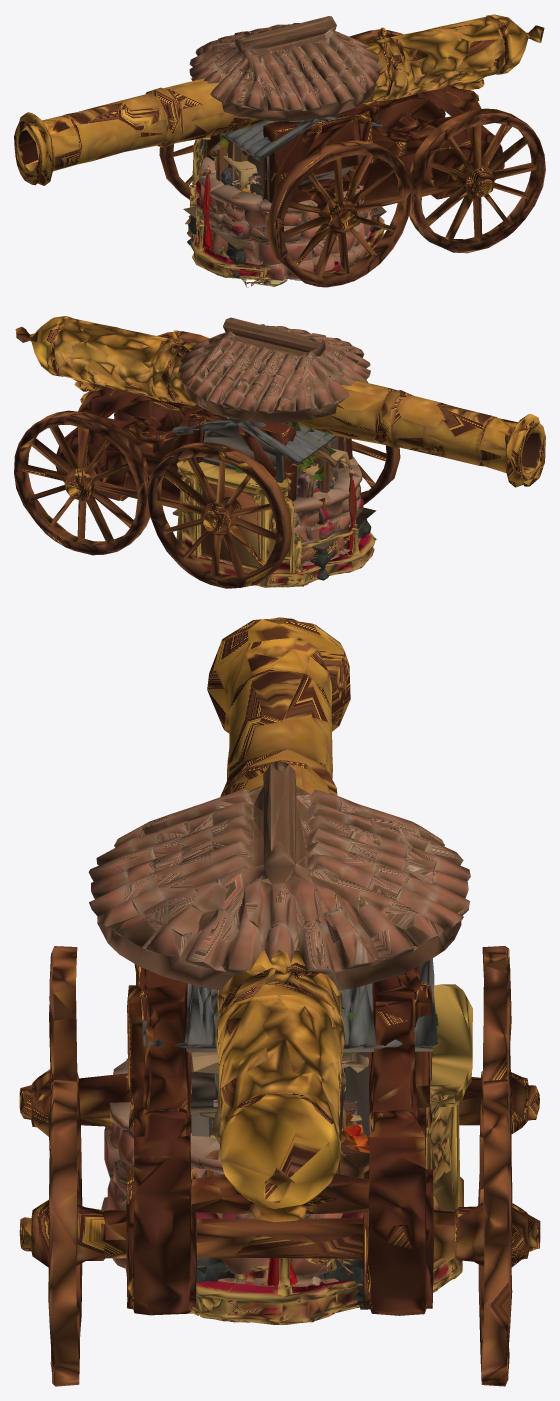
The model's file is props_atlas.glb.
The picture shows the model from 3 angles, top to bottom: view 1: azimuth 30°, elevation 25°; view 2: azimuth 150°, elevation 25°; view 3: azimuth 270°, elevation 25°; orthographic projection. The views are drawn at different scales.
Parts seen in each view (by area): view 1: great_gun, well, throne_dais, la_pigeon_loft, la_divan, palki, spice_stall, weapon_rack; view 2: great_gun, well, throne_dais, la_pigeon_loft, la_divan, la_planter_tree, weapon_rack, palki, spice_stall, la_cloth_stall2; view 3: great_gun, well, throne_dais, la_pigeon_loft, la_fruit_cart, la_divan.
Boxes of the visible parts, x1,y1,x2,y2 form: great_gun: (14,14,545,287); well: (189,16,381,280); throne_dais: (185,136,384,280); la_pigeon_loft: (203,115,382,257); la_divan: (183,179,386,278); palki: (202,150,249,249); spice_stall: (214,153,259,256); weapon_rack: (208,141,227,180); great_gun: (14,316,545,588); well: (178,317,370,565); throne_dais: (176,459,377,587); la_pigeon_loft: (172,417,346,497); la_divan: (172,488,376,580); la_planter_tree: (236,421,344,480); weapon_rack: (310,450,337,492); palki: (311,441,356,550); spice_stall: (302,448,359,543); la_cloth_stall2: (296,460,340,497); great_gun: (19,617,540,1386); well: (88,761,470,1286); throne_dais: (190,984,472,1324); la_pigeon_loft: (142,958,438,1136); la_fruit_cart: (189,1052,369,1178); la_divan: (196,1177,369,1309).
Bounding box in the file's own units: 7.5 × 3.22 × 3.26.
Materials: 1 (1 with a texture image).
